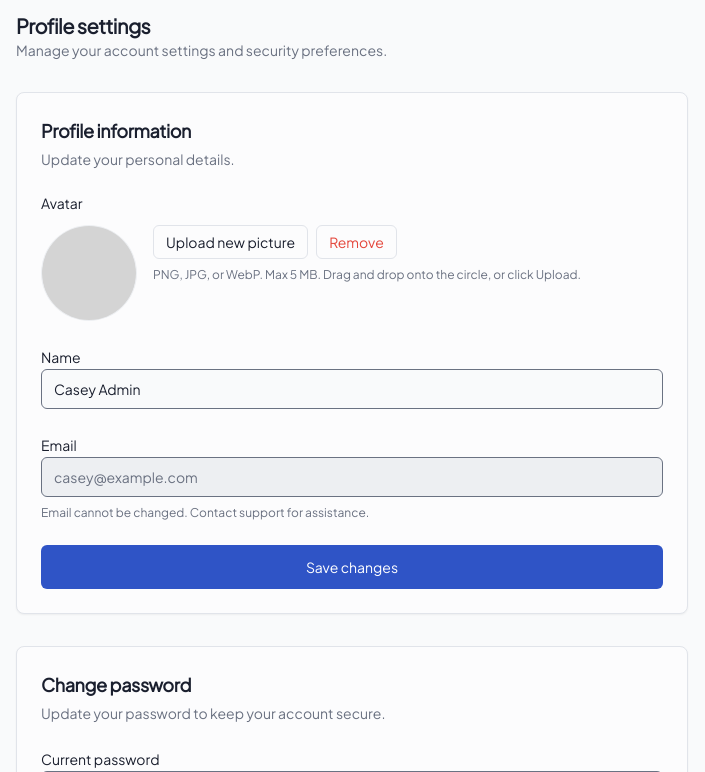
Test: ProfilePage avatar settings › deletes the current avatar via the Remove button
What coordinates should you click on to do the following:
click the button "Remove"
I would click on:
 (356, 242)
Its box is x1=316 y1=225 x2=397 y2=259.
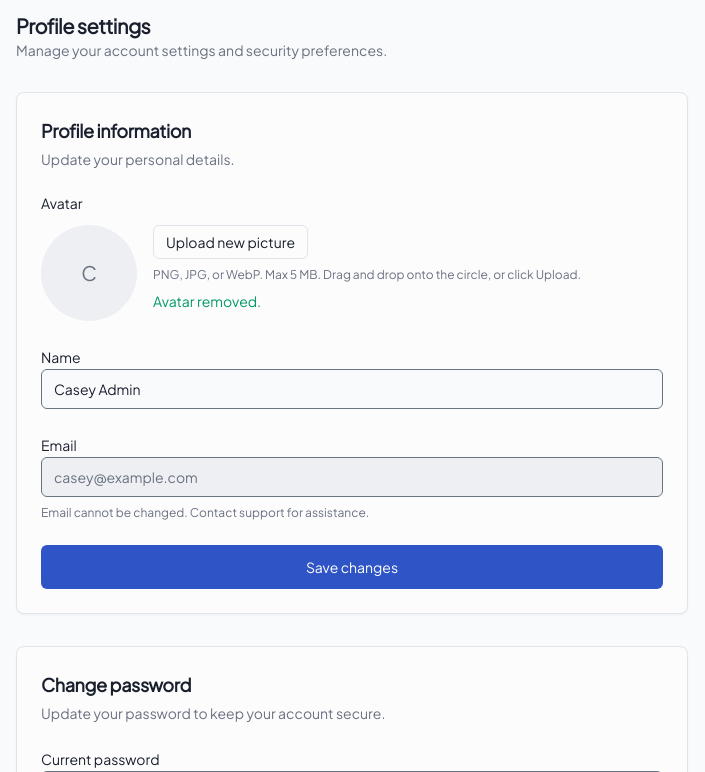
Expected: the text "Avatar removed." is shown, x1=153 y1=292 x2=261 y2=310
